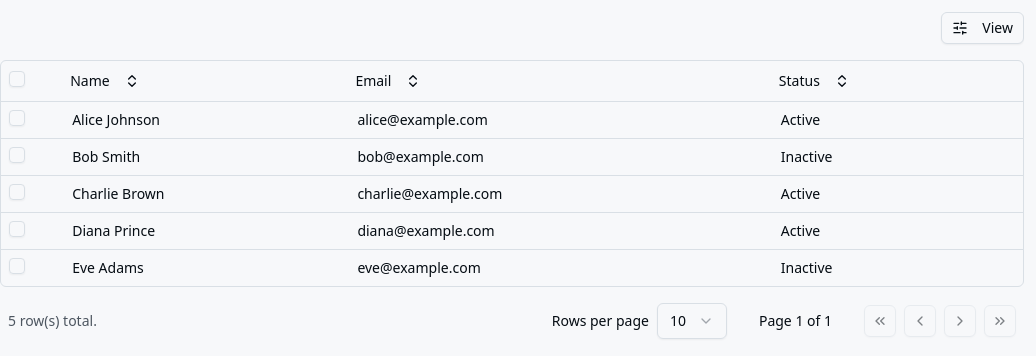
Test: DataTable › Row Selection › should select individual rows
# Click the checkbox
Click the checkbox named "Select row" next to "Alice Johnson".
click(17, 118)  # box [9,110,25,126]
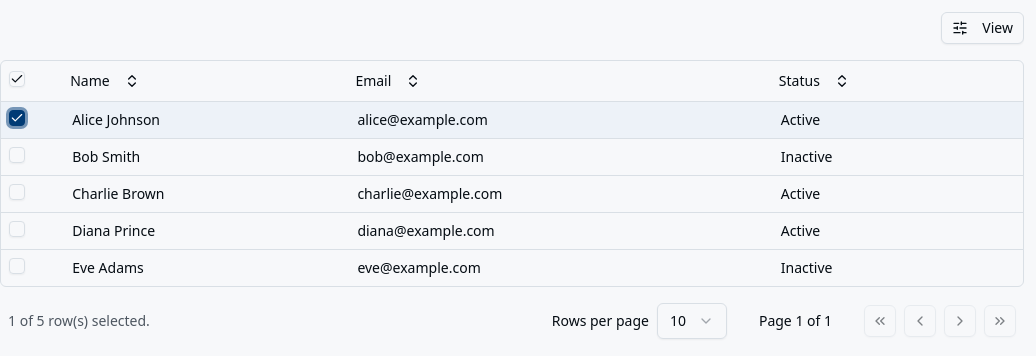
Result: the text "1 of 5 row(s) selected." is shown at [8,310,150,330]
